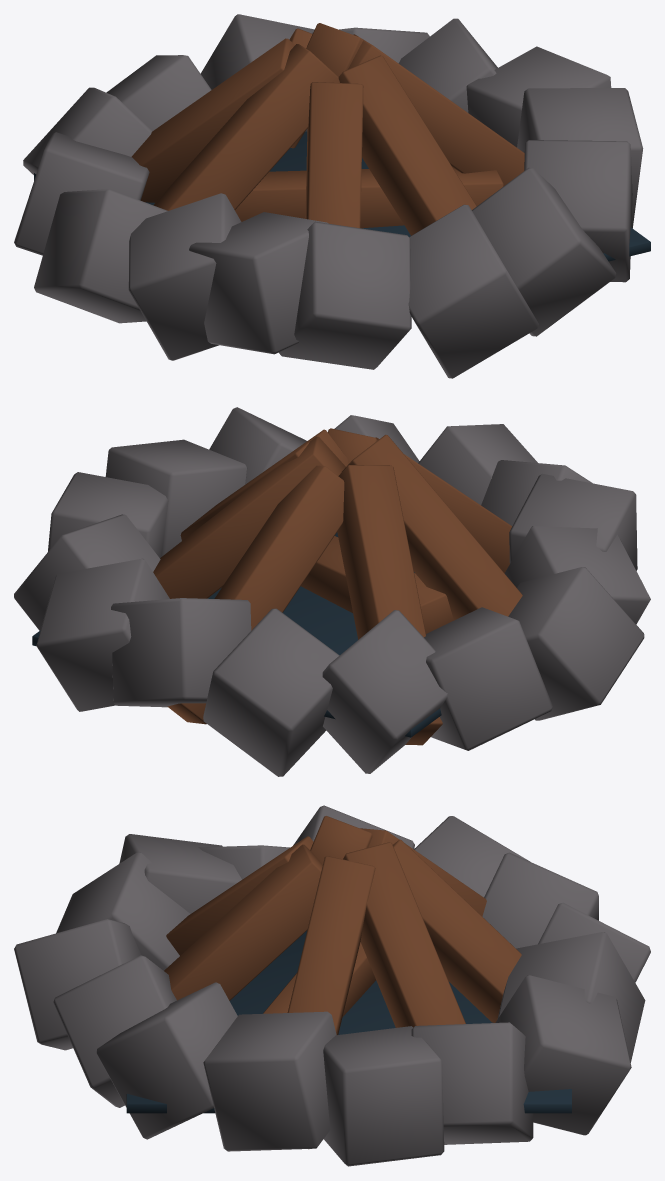
The model's file is Set_CampfireTent_CS.glb.
3 renders of one model, top to bottom at view 1: azimuth 30°, elevation 25°; view 2: azimuth 150°, elevation 25°; view 3: azimuth 270°, elevation 25°, orthographic. The views are drawn at different scales.
Visible parts, largest first — view 1: Set_CampfireTent_CS; view 2: Set_CampfireTent_CS; view 3: Set_CampfireTent_CS.
Boxes of the visible parts, box(x1,y1,x2,y2) form: Set_CampfireTent_CS: box(14, 14, 650, 378); Set_CampfireTent_CS: box(14, 407, 650, 776); Set_CampfireTent_CS: box(14, 805, 650, 1166).
Bounding box in the file's own units: 3.47 × 1.42 × 3.43.
